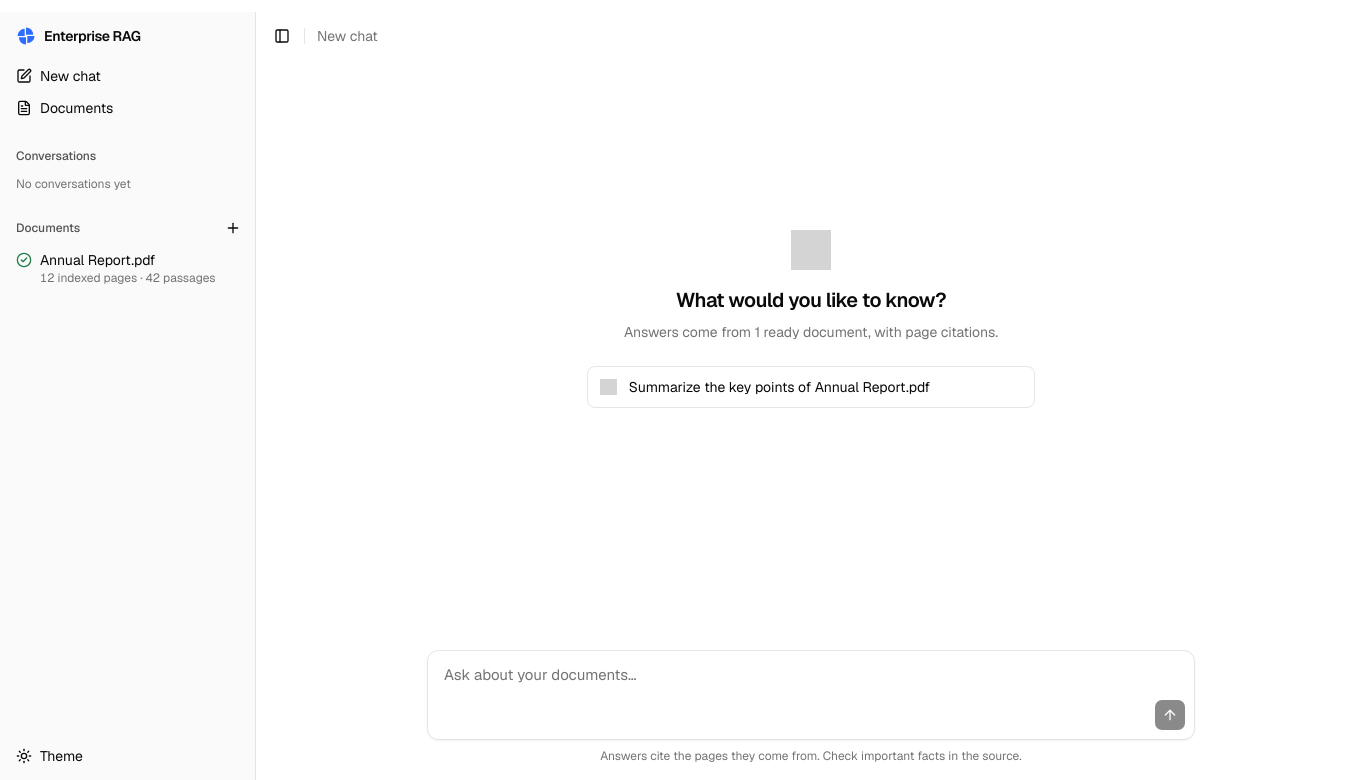
answers small talk as a light exchange, without sources or copy
Type "hi" into the text box named "Question".
click(811, 675); type("hi")  # box x1=428 y1=651 x2=1194 y2=699
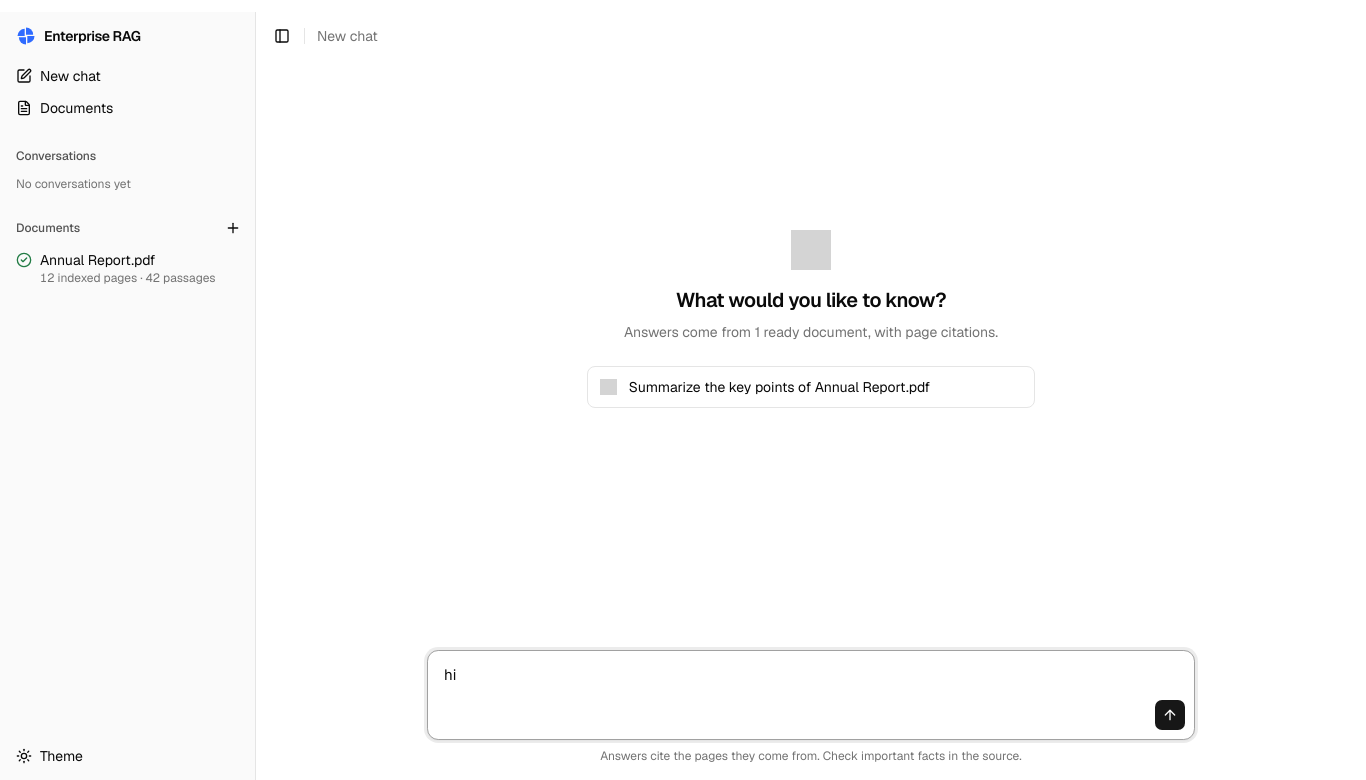
Press Enter
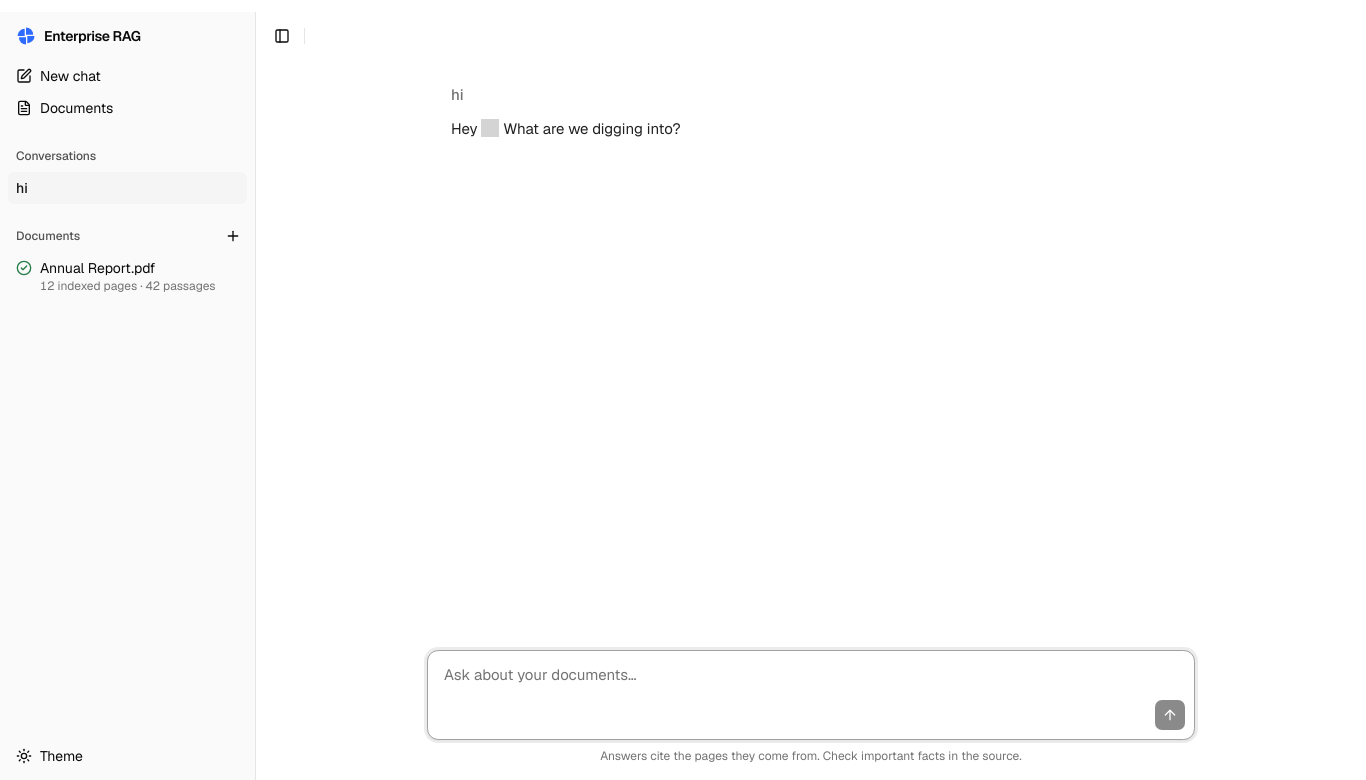
Result: the text "Hey What are we digging into?" is shown at x1=451 y1=118 x2=681 y2=138
